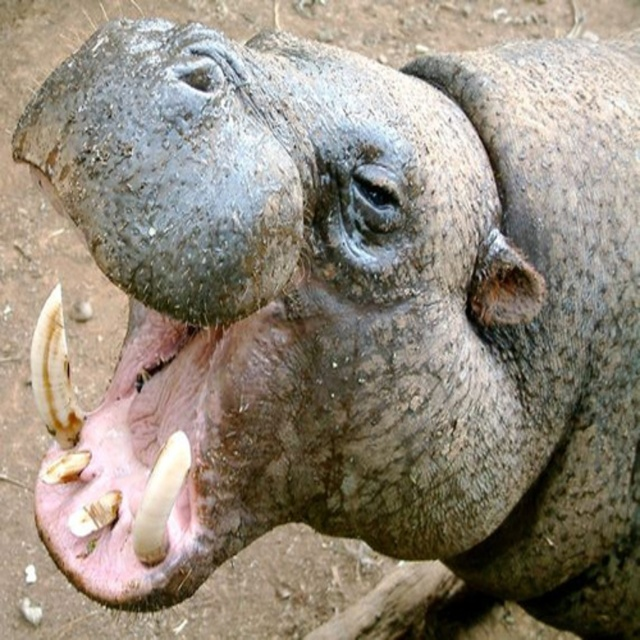Hippopotamus: (5, 0, 639, 638)
